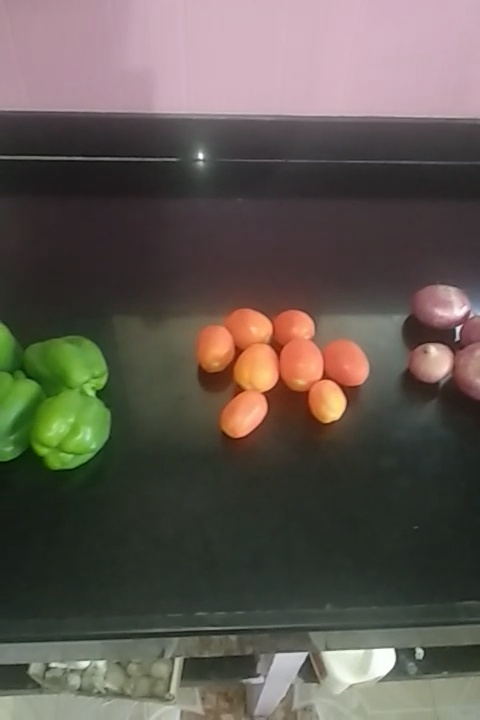capsicum: (33, 391, 116, 471), (21, 336, 105, 397), (1, 369, 47, 464)
onion: (407, 282, 473, 328), (400, 338, 447, 393), (453, 345, 480, 413)
tomato: (318, 335, 372, 388), (227, 300, 275, 351), (302, 376, 347, 423), (224, 384, 265, 434), (279, 342, 323, 387), (198, 325, 237, 375), (271, 313, 313, 342)
